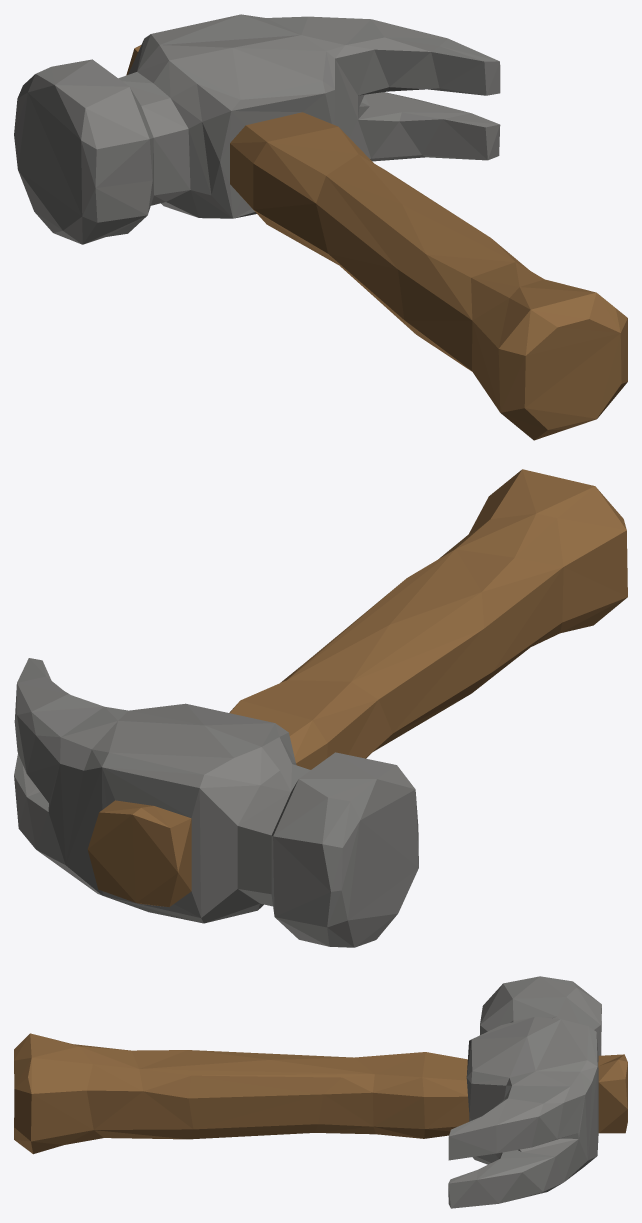
The model's file is CarpenterHammer.fbx.
The picture shows the model from 3 angles, top to bottom: view 1: azimuth 30°, elevation 25°; view 2: azimuth 150°, elevation 25°; view 3: azimuth 270°, elevation 25°; orthographic projection. The views are drawn at different scales.
Parts seen in each view (by area): view 1: CarpenterHammer; view 2: CarpenterHammer; view 3: CarpenterHammer.
Part boxes in pixels (box(x1,y1,x2,y2)): CarpenterHammer: box(14, 14, 627, 440); CarpenterHammer: box(14, 469, 627, 947); CarpenterHammer: box(14, 976, 627, 1208).
Bounding box in the file's own units: 0.1986 × 0.3598 × 0.0751.
